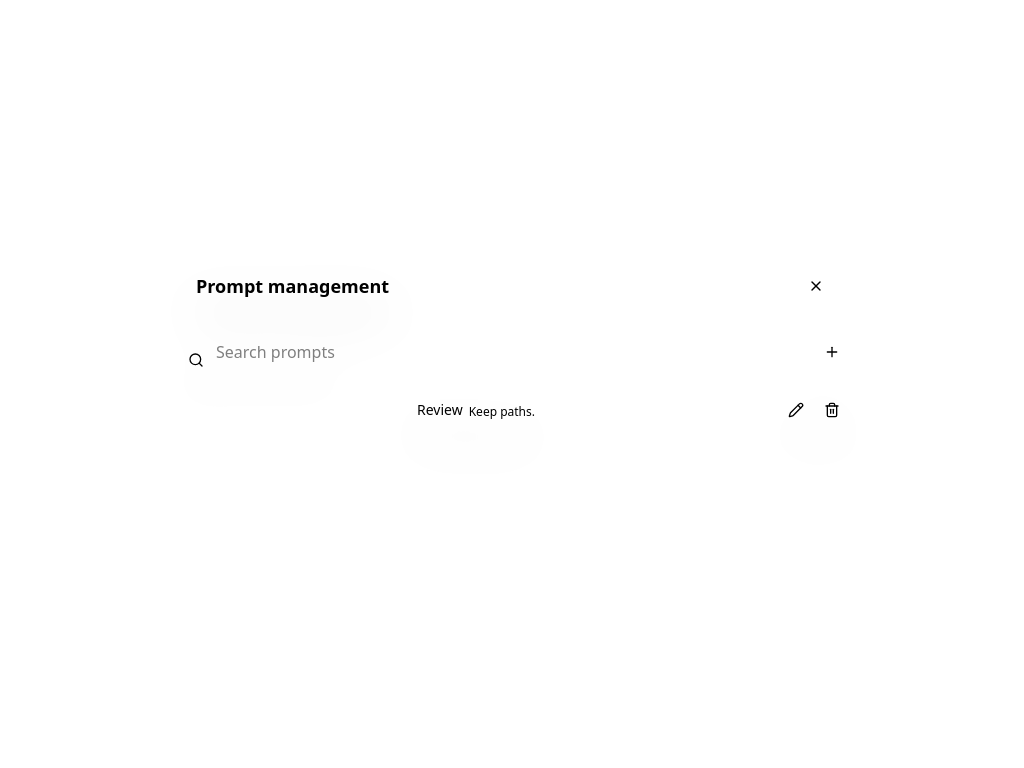
Test: Work composer › edits persisted prompts without submitting database metadata
The width and height of the screenshot is (1024, 768).
Step 1. Click the button named "Edit prompt: Review" → (796, 410), box [780,394,812,426]
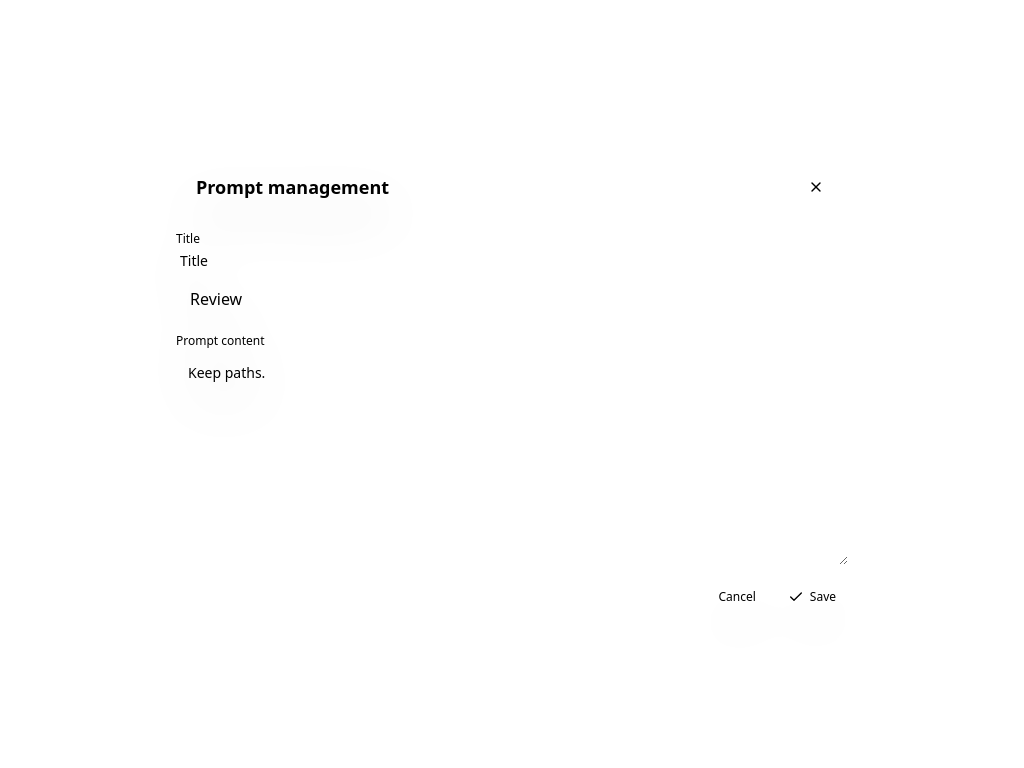
Step 2. Replace the text in the text box labelled "Prompt content" with "Preserve the release checklist." → (512, 457), box [176,349,848,565]
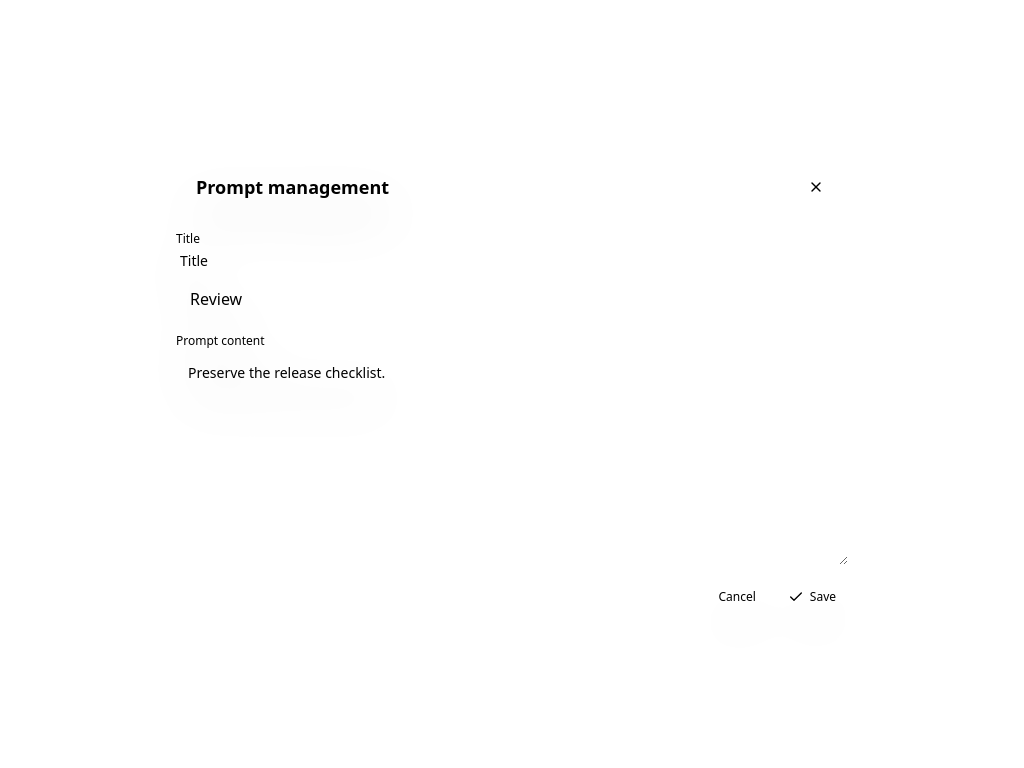
Step 3. Click the button "Save" → (812, 597), box [776,581,848,613]
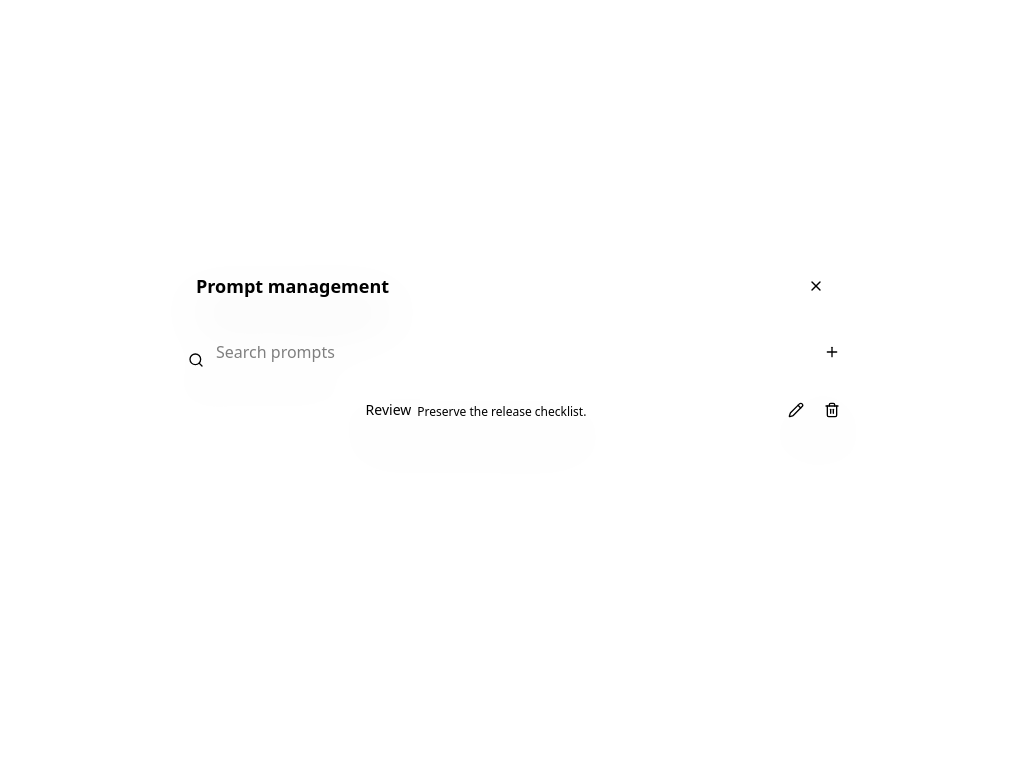
Result: the button named "Edit prompt: Review" is shown at [780,394,812,426]
